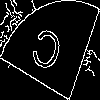C: (25, 25, 65, 83)
